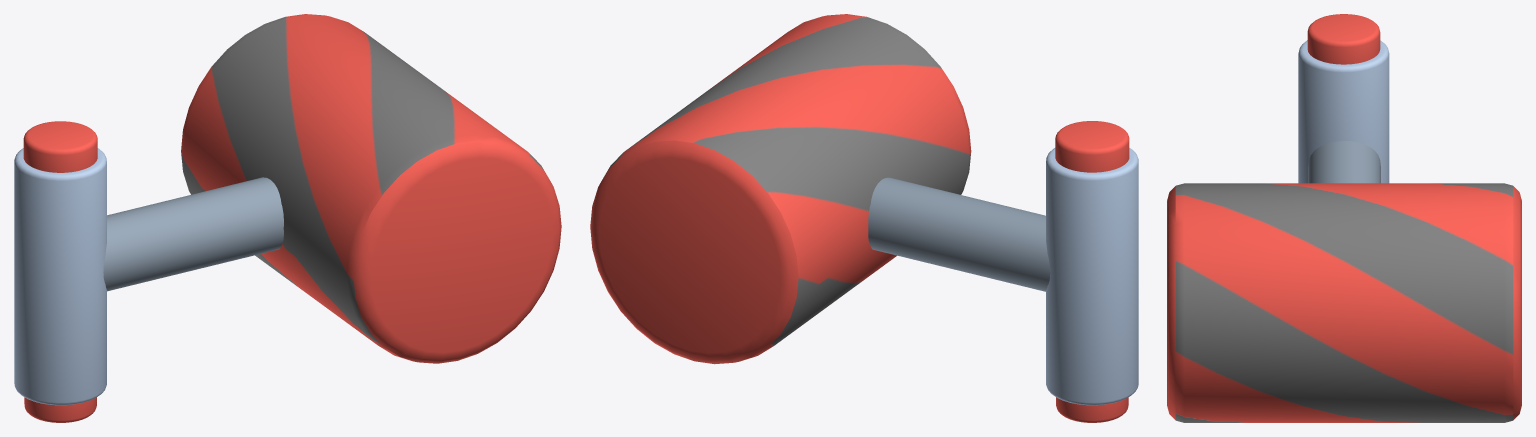
File: RotationHammer.fbx
3 renders of one model, left to right at view 1: azimuth 30°, elevation 25°; view 2: azimuth 150°, elevation 25°; view 3: azimuth 270°, elevation 25°, orthographic. The views are drawn at different scales.
Parts seen in each view (by area): view 1: Hammer.001, Hammer_Base; view 2: Hammer.001, Hammer_Base; view 3: Hammer.001, Hammer_Base.
Part boxes in pixels (<box>): Hammer.001: <box>103,14,561,363</box>; Hammer_Base: <box>14,121,106,422</box>; Hammer.001: <box>590,14,1050,364</box>; Hammer_Base: <box>1046,121,1138,422</box>; Hammer.001: <box>1167,141,1521,422</box>; Hammer_Base: <box>1298,14,1389,183</box>.
Bounding box in the file's own units: 437 × 250 × 300.
